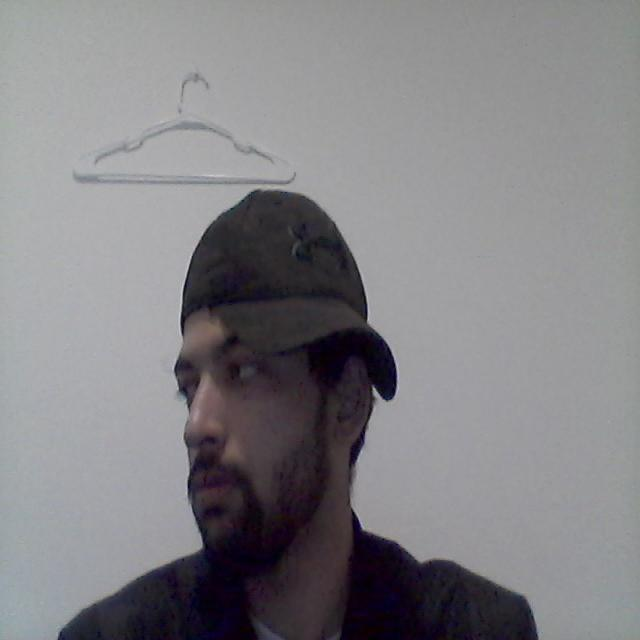cap: (130, 158, 413, 398)
